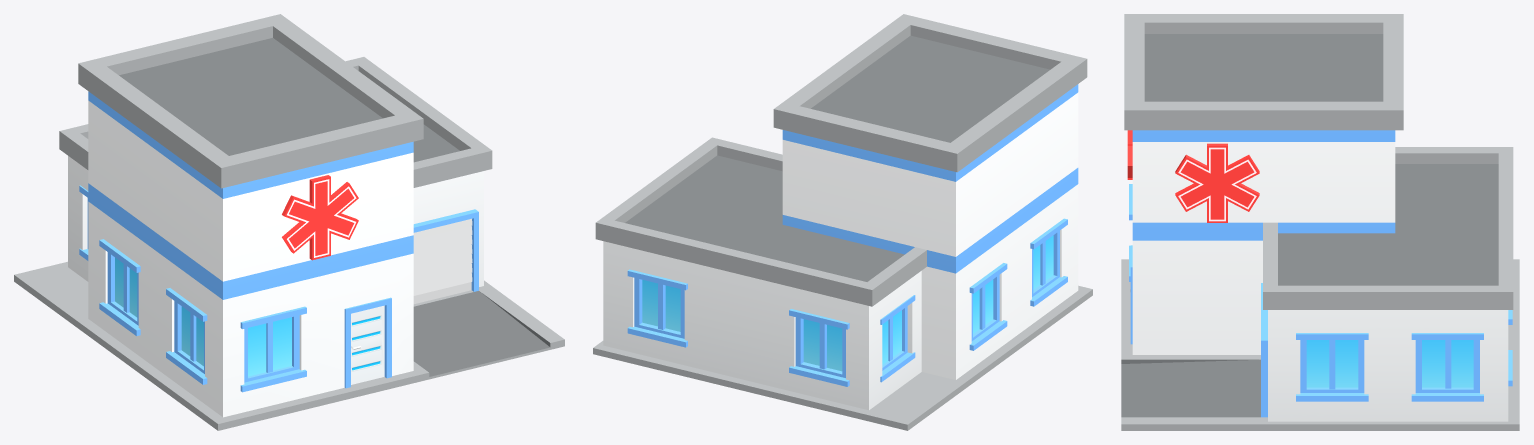
The model's file is Building_Institution_08.glb.
3 renders of one model, left to right at view 1: azimuth 30°, elevation 25°; view 2: azimuth 150°, elevation 25°; view 3: azimuth 270°, elevation 25°, orthographic. The views are drawn at different scales.
Visible parts, largest first — view 1: Building_Institution_08; view 2: Building_Institution_08; view 3: Building_Institution_08.
Part boxes in pixels (box(x1,y1,x2,y2)): Building_Institution_08: box(14, 14, 564, 430); Building_Institution_08: box(593, 14, 1092, 430); Building_Institution_08: box(1121, 14, 1519, 430).
Bounding box in the file's own units: 10.64 × 7.64 × 10.84.
Materials: 1 (1 with a texture image).
